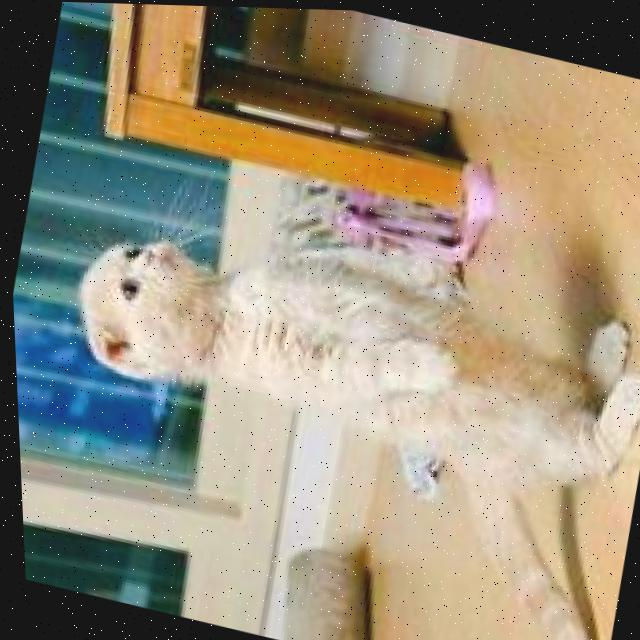Scottish Fold: (7, 180, 640, 640)
